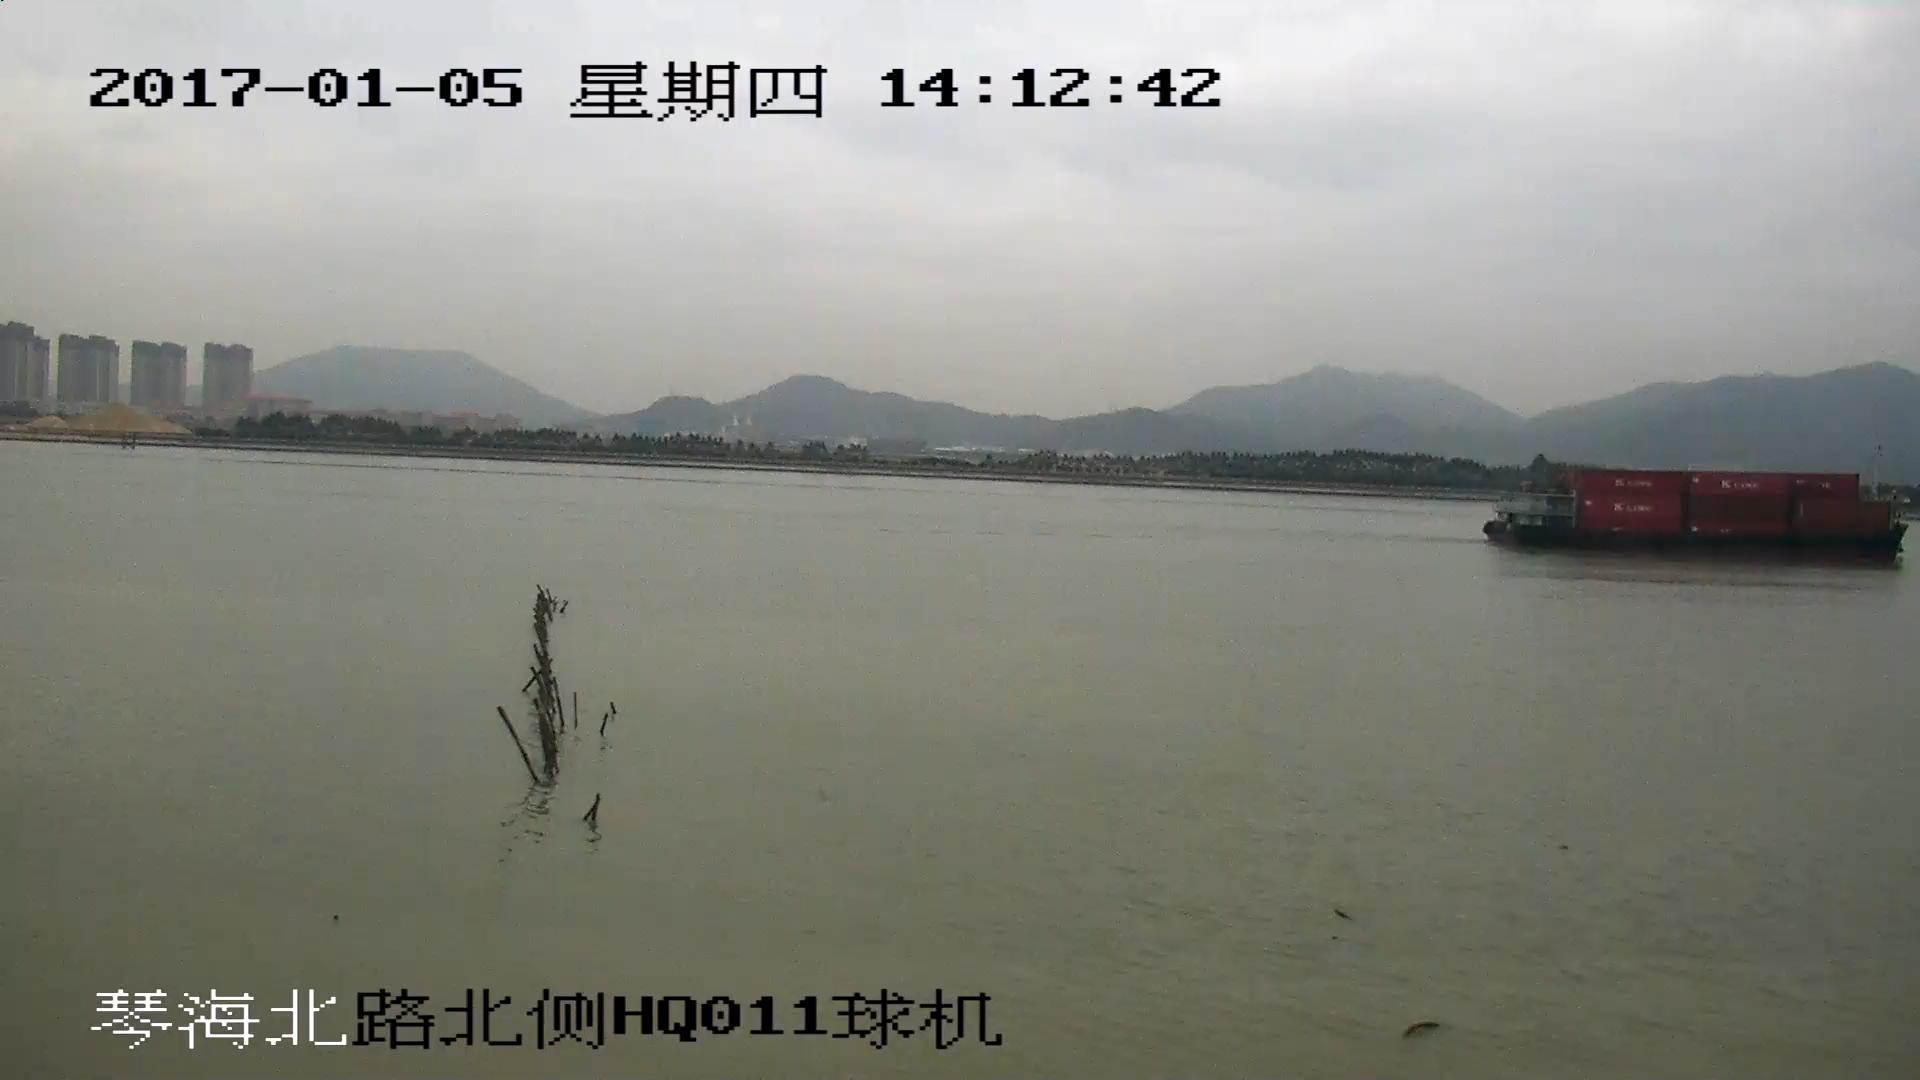container ship: (1482, 466, 1908, 561)
